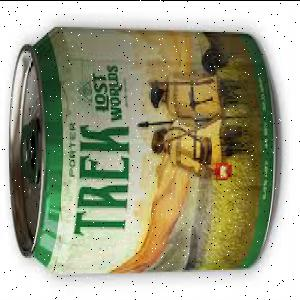Can: (7, 27, 279, 275)
